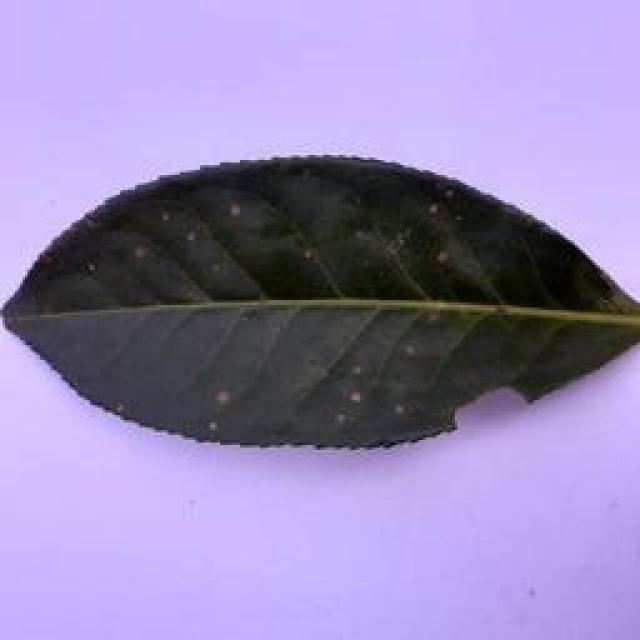Algal Leaf Spot: (0, 141, 640, 469)
